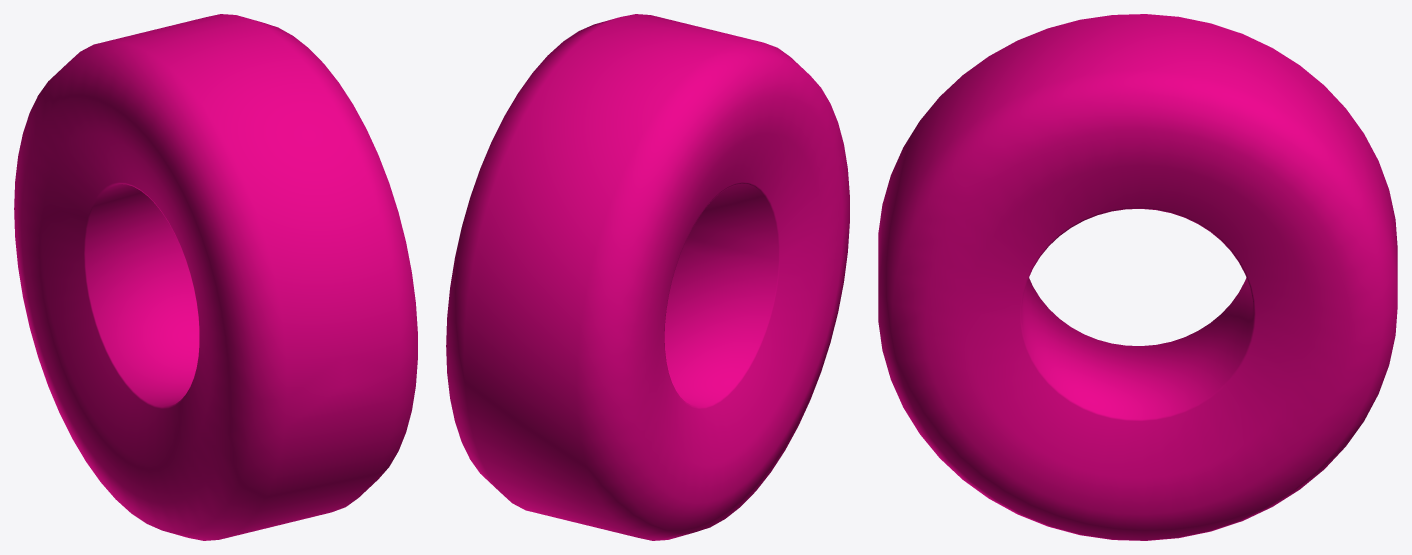
Rendered from Tire_1_Low.fbx.
3 renders of one model, left to right at view 1: azimuth 30°, elevation 25°; view 2: azimuth 150°, elevation 25°; view 3: azimuth 270°, elevation 25°, orthographic.
Visible parts, largest first — view 1: LowPoly; view 2: LowPoly; view 3: LowPoly.
Part boxes in pixels (x1,y1,x2,y2): LowPoly: (14, 14, 417, 540); LowPoly: (446, 14, 849, 540); LowPoly: (878, 14, 1397, 540).
Bounding box in the file's own units: 127 × 311 × 311.
